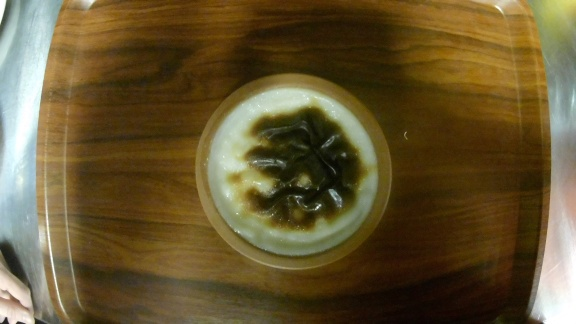sutlac: (195, 73, 394, 270)
